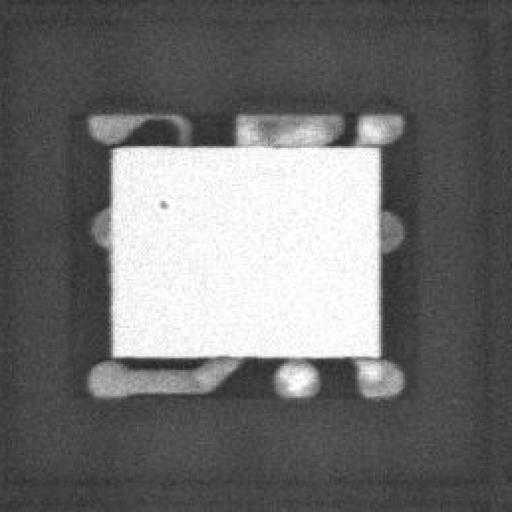DIE_INK: (146, 202, 163, 220)
